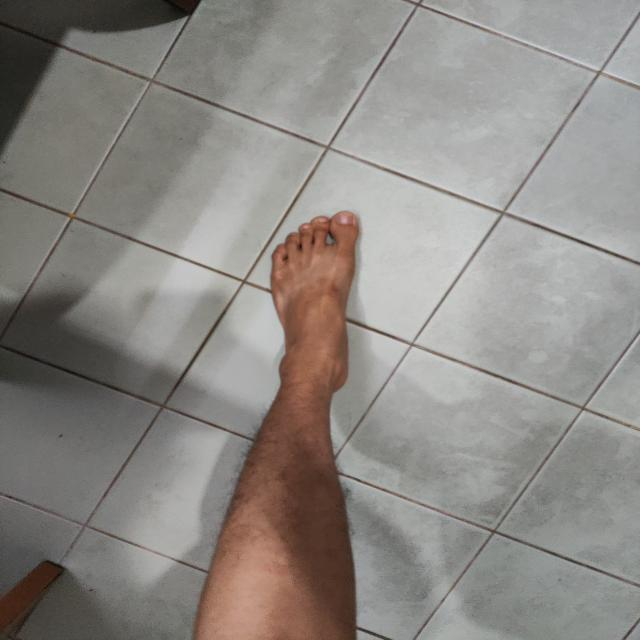No_Shoes: (237, 191, 442, 428)
